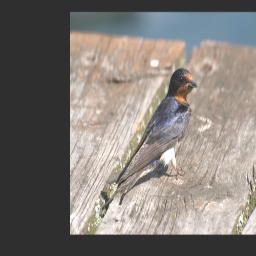Swallow: (100, 67, 198, 213)
